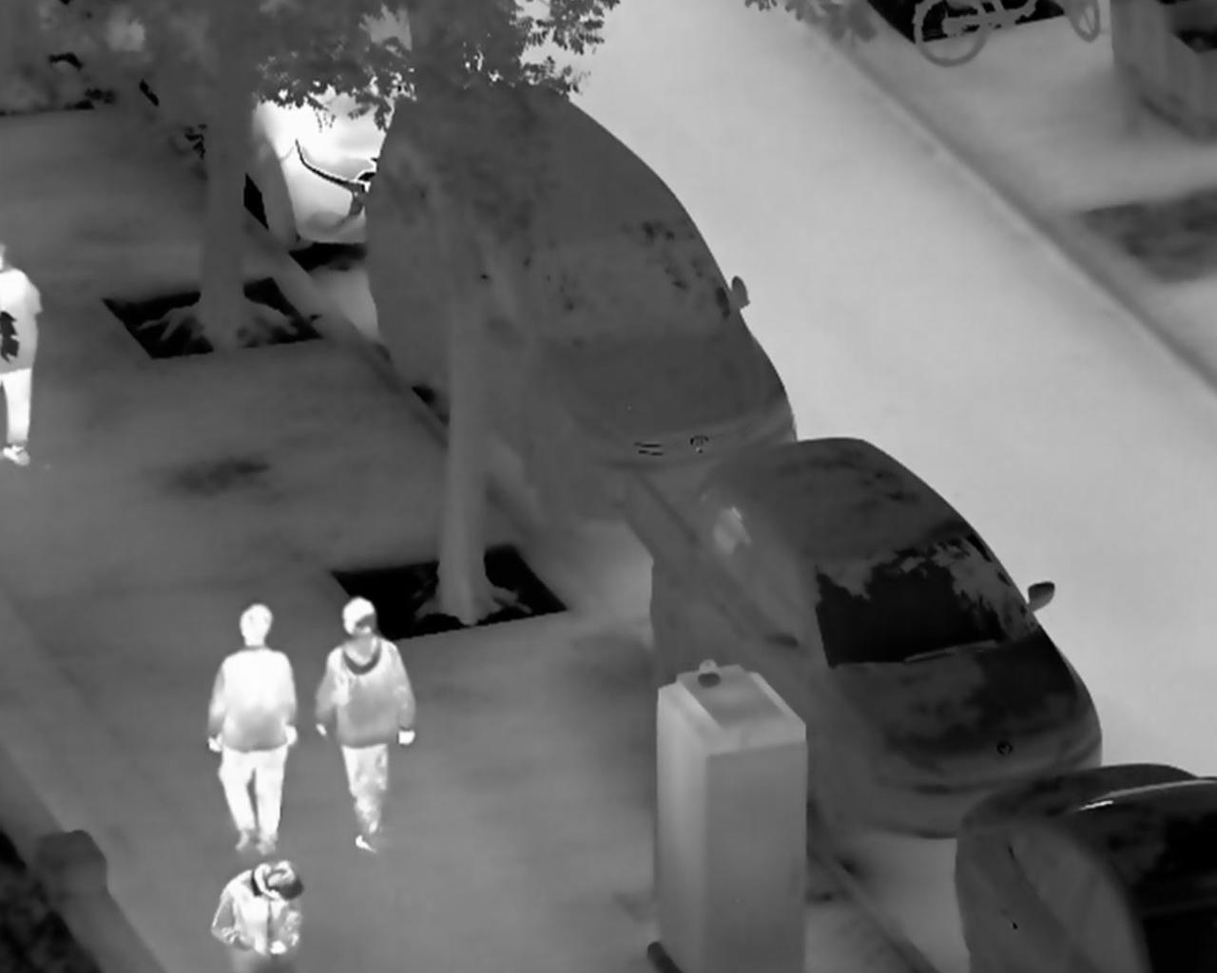person: (311, 595, 418, 855), (205, 602, 295, 856), (204, 860, 306, 973)
